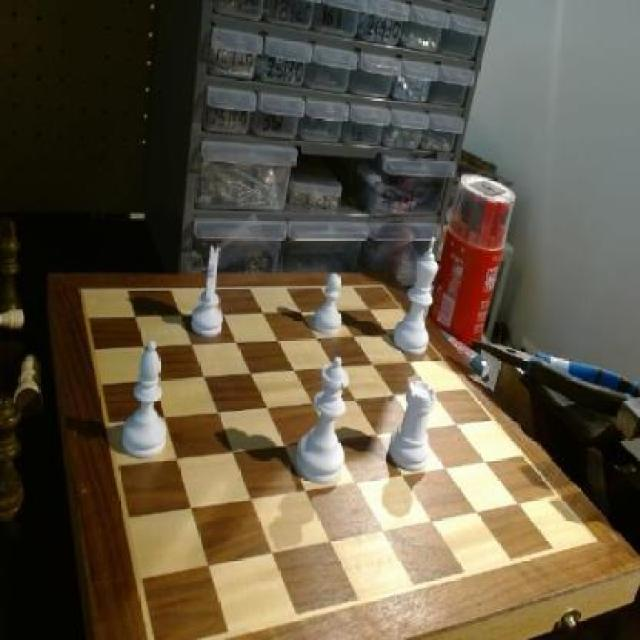black-rook: (121, 342, 172, 461)
white-bishop: (392, 235, 446, 360)
white-king: (188, 245, 230, 343)
white-knight: (312, 271, 346, 340)
white-pawn: (295, 355, 353, 488)
white-queen: (388, 377, 440, 475)
